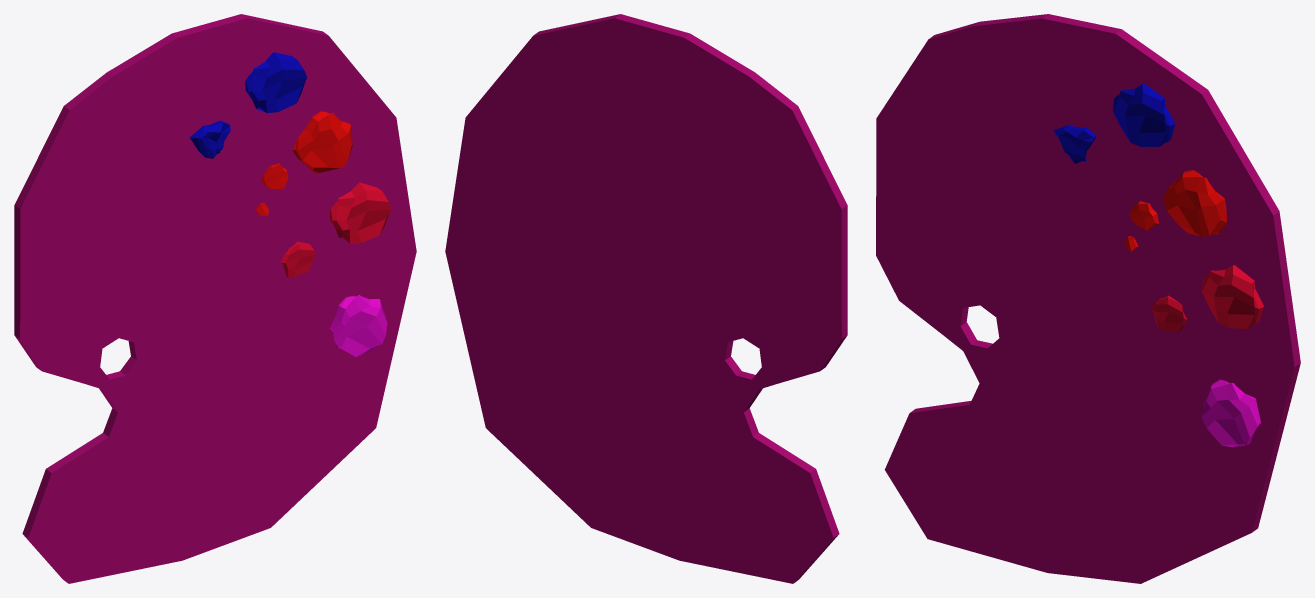
Rendered from PaintPalette_01.fbx.
3 renders of one model, left to right at view 1: azimuth 30°, elevation 25°; view 2: azimuth 150°, elevation 25°; view 3: azimuth 330°, elevation 25°, orthographic. The views are drawn at different scales.
Parts seen in each view (by area): view 1: PaintPalette_01; view 2: PaintPalette_01; view 3: PaintPalette_01.
Part boxes in pixels (box(x1,y1,x2,y2)): PaintPalette_01: box(14, 14, 416, 583); PaintPalette_01: box(445, 14, 847, 583); PaintPalette_01: box(876, 14, 1300, 583).
Bounding box in the file's own units: 3.88 × 4.92 × 0.2081.
